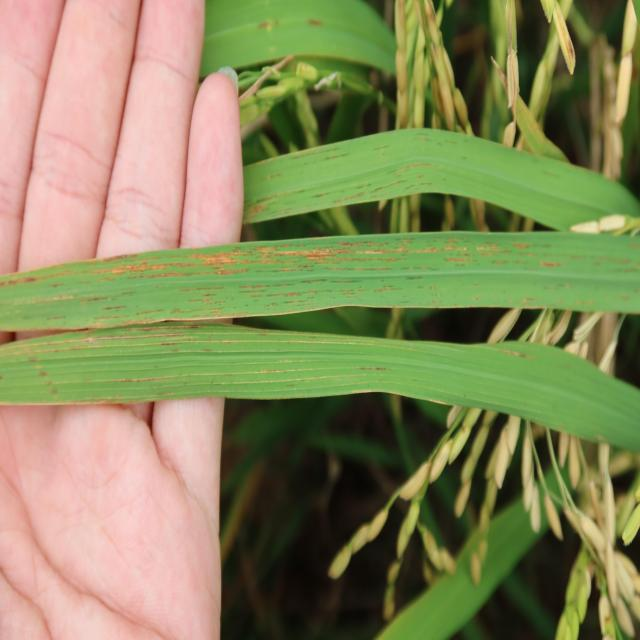Dom soc vi khuan: (93, 232, 511, 282), (81, 321, 219, 349)
